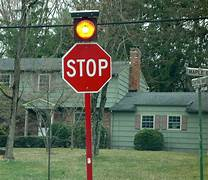stop: (62, 43, 113, 95)
